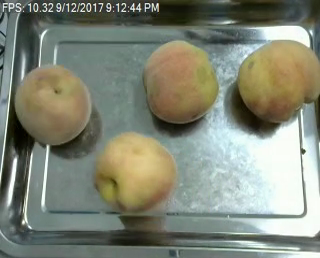Peach: (94, 132, 176, 214), (238, 39, 318, 122), (142, 38, 218, 124), (14, 64, 91, 146)
